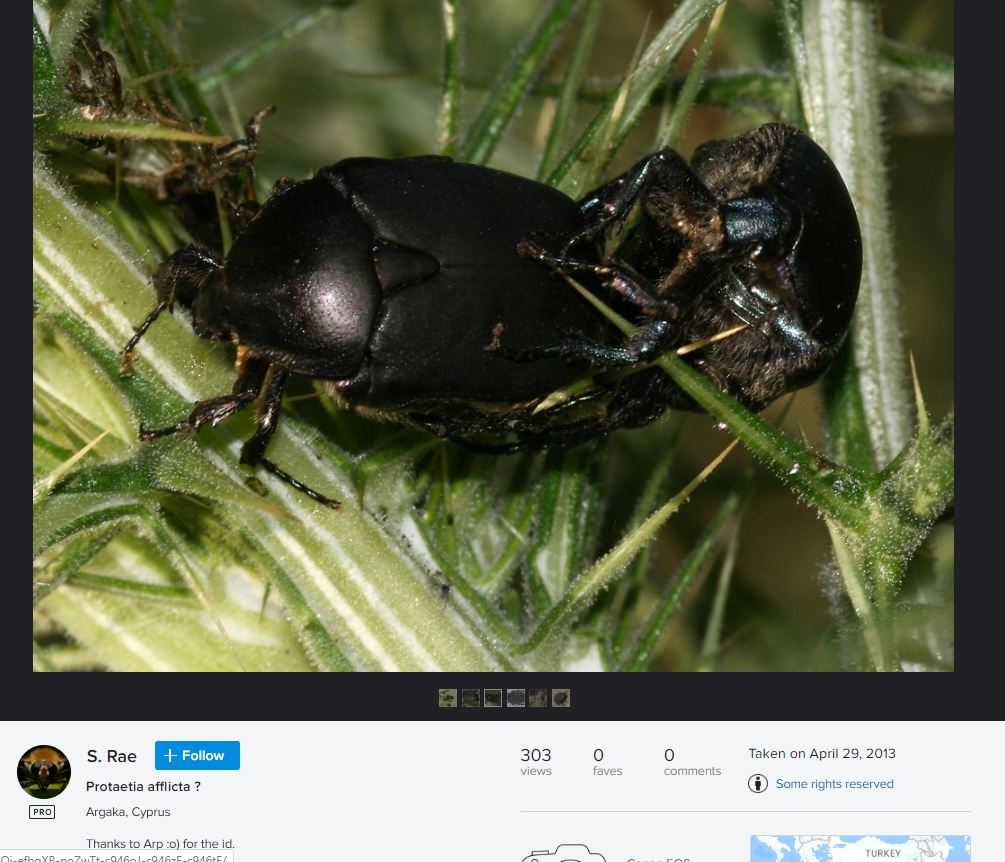Protaetia_afflicta: (140, 149, 649, 466), (599, 107, 872, 418)
